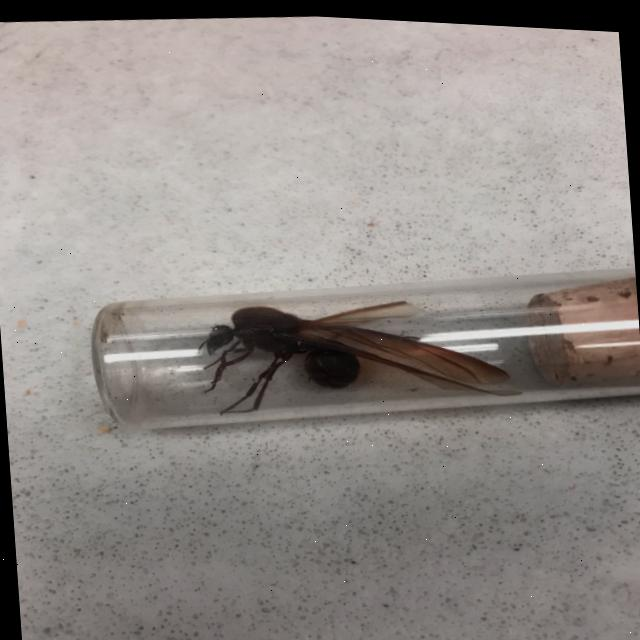Alive-Female-Alate: (194, 279, 524, 427)
